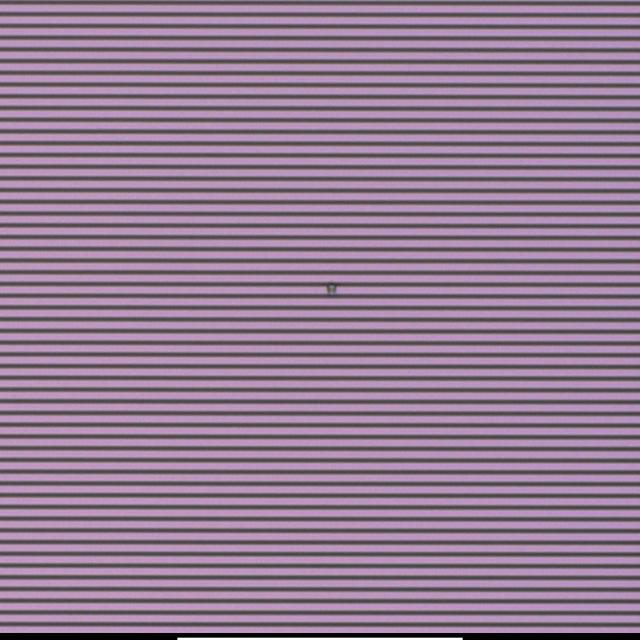03_intrusion: (321, 278, 342, 302)
